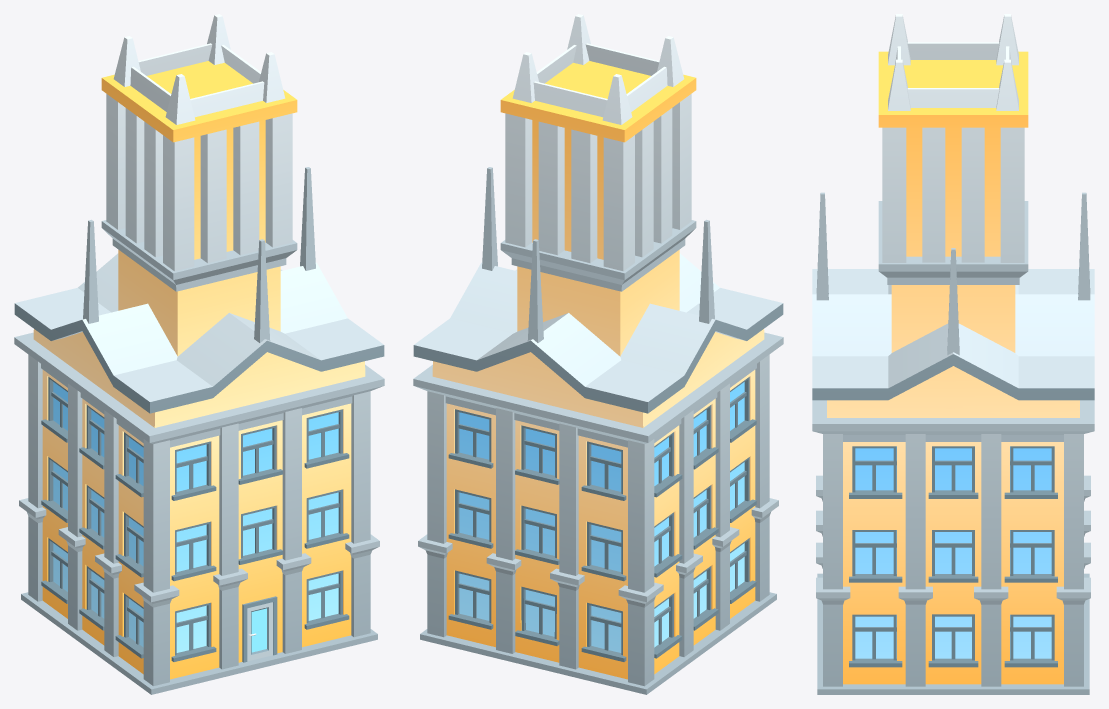
Rendered from Building_State_09.glb.
The picture shows the model from 3 angles, left to right: view 1: azimuth 30°, elevation 25°; view 2: azimuth 150°, elevation 25°; view 3: azimuth 270°, elevation 25°; orthographic projection. The views are drawn at different scales.
Visible parts, largest first — view 1: Building_State_09; view 2: Building_State_09; view 3: Building_State_09.
Part boxes in pixels (x1=…): Building_State_09: x1=14, y1=14, x2=384, y2=694; Building_State_09: x1=413, y1=14, x2=783, y2=694; Building_State_09: x1=812, y1=14, x2=1094, y2=694.
Bounding box in the file's own units: 9.9 × 23.1 × 9.87.
Materials: 1 (1 with a texture image).
